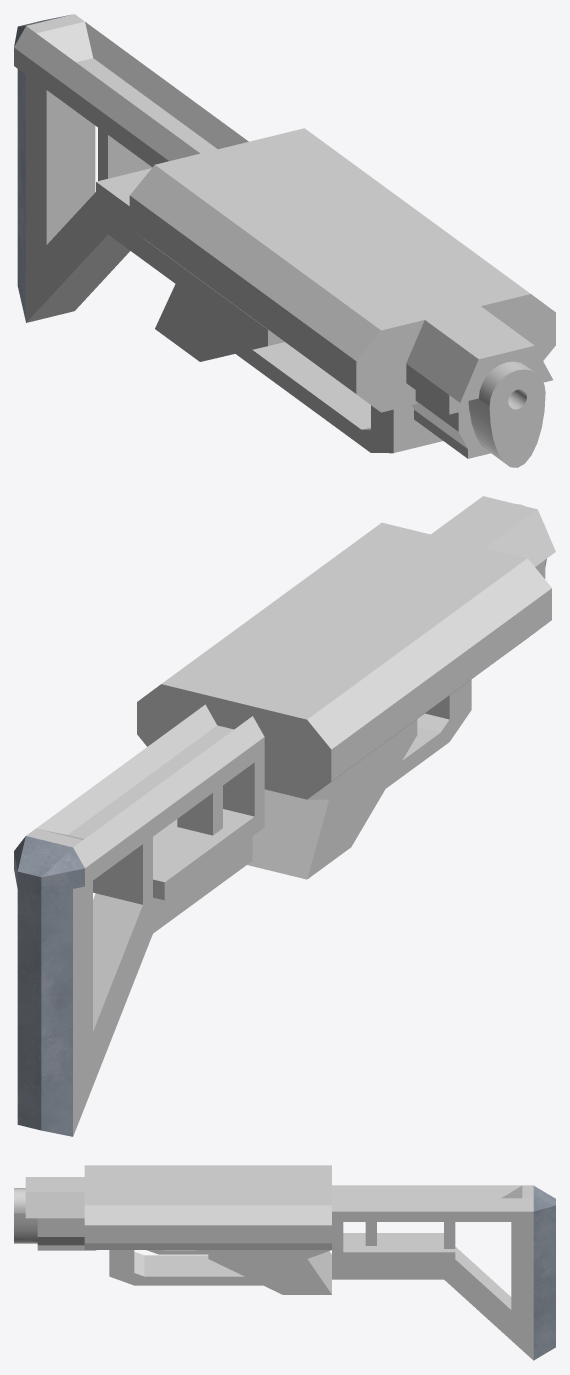
File: Space-Shooter-Gun.glb
The picture shows the model from 3 angles, top to bottom: view 1: azimuth 30°, elevation 25°; view 2: azimuth 150°, elevation 25°; view 3: azimuth 270°, elevation 25°; orthographic projection. The views are drawn at different scales.
Visible parts, largest first — view 1: mergedBlocks(Clone); view 2: mergedBlocks(Clone); view 3: mergedBlocks(Clone).
Boxes of the visible parts, bbox=[...] form: mergedBlocks(Clone): bbox=[14, 14, 555, 467]; mergedBlocks(Clone): bbox=[14, 496, 555, 1136]; mergedBlocks(Clone): bbox=[14, 1165, 555, 1360].
Bounding box in the file's own units: 1.07 × 1.57 × 4.6.
Materials: 2 (1 with a texture image).
